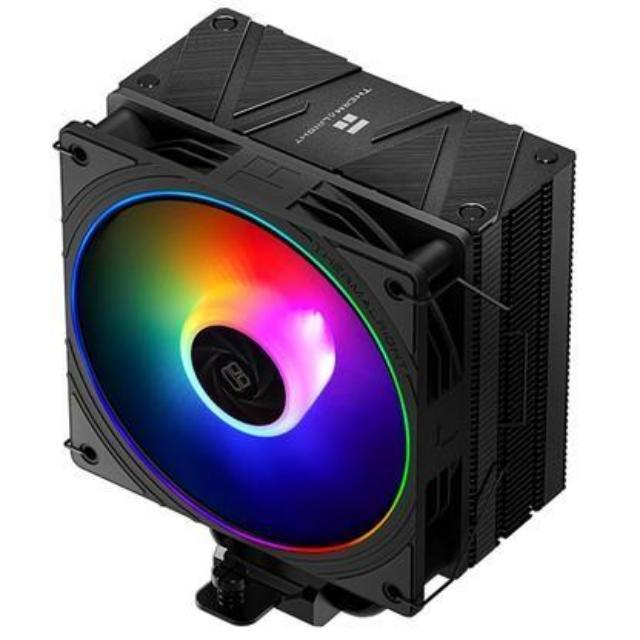CPU_Fan: (31, 8, 598, 630)
